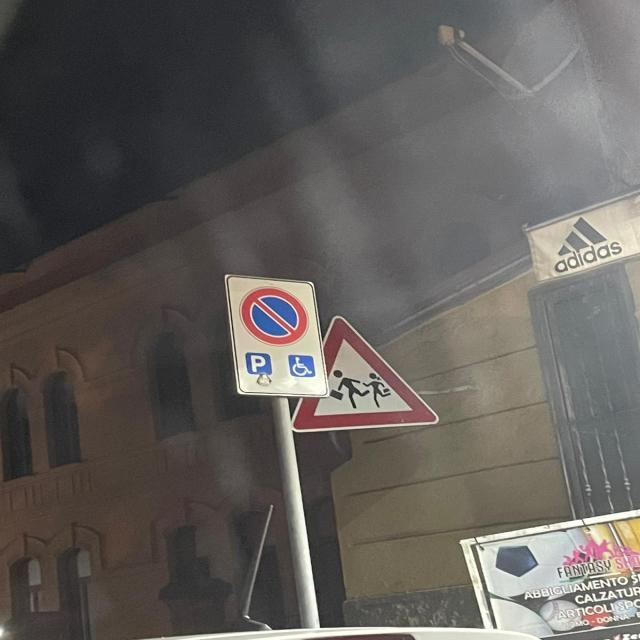forb_stopping: (239, 286, 311, 347)
